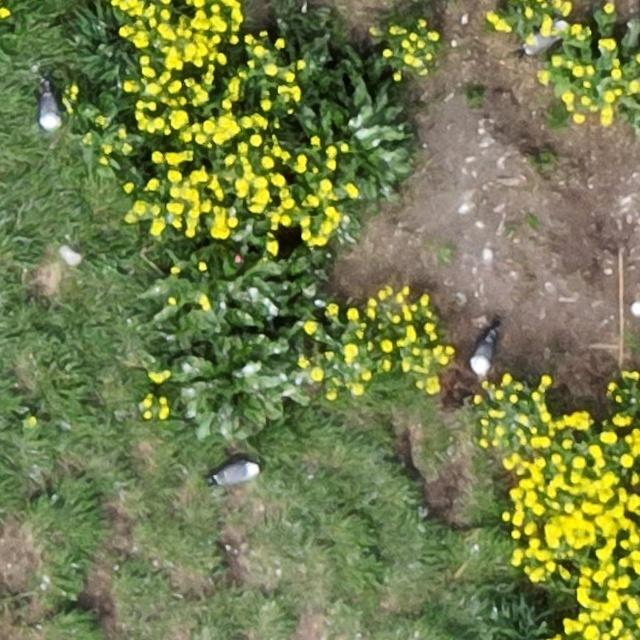umineko: (472, 332, 494, 372), (40, 88, 60, 130), (218, 462, 256, 484), (524, 32, 562, 52)
